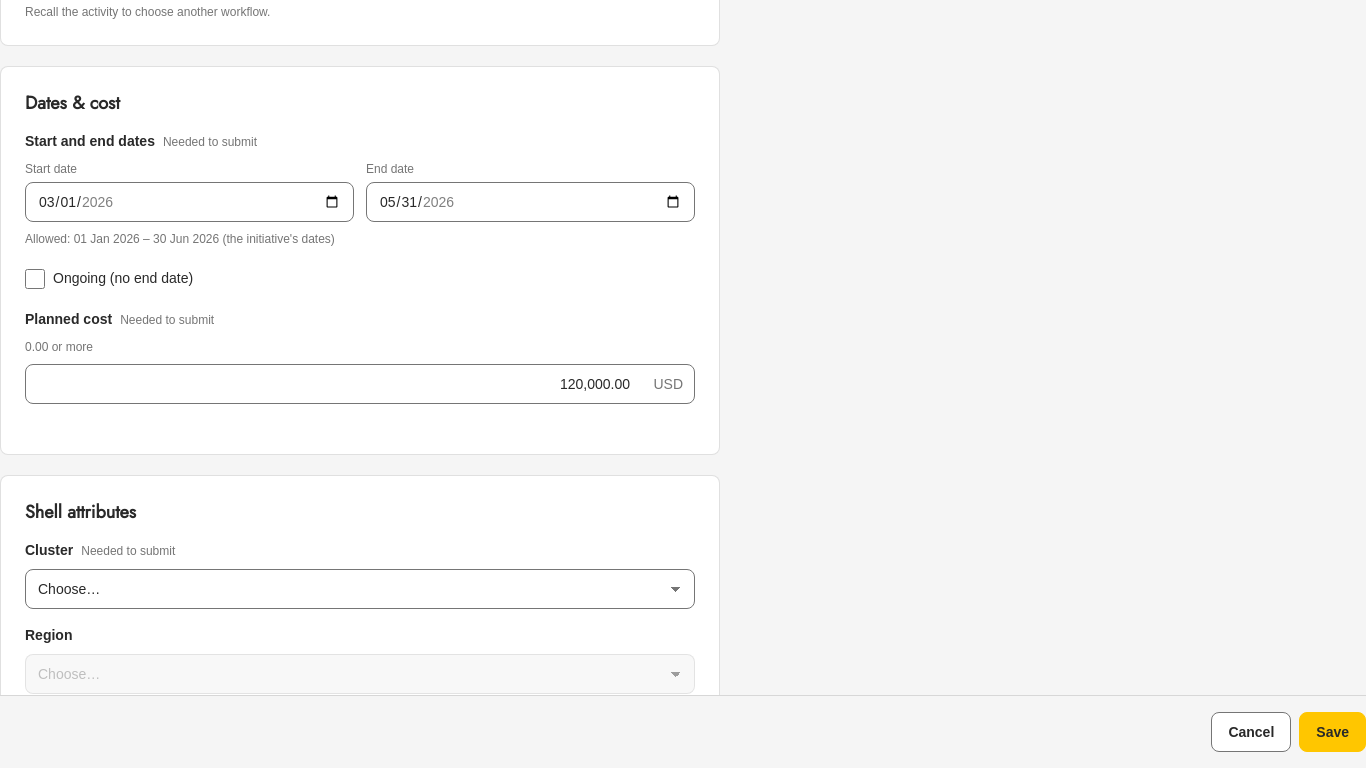
Test case: ActivityFormPage, edit (feature 006, US4) › asks before a cost change sends a submitted activity back for approval (FR-027)
(page scrolled)
Replace the text in the field labelled "Planned cost" with "150,000.00" at (360, 384), box x1=25 y1=364 x2=695 y2=404
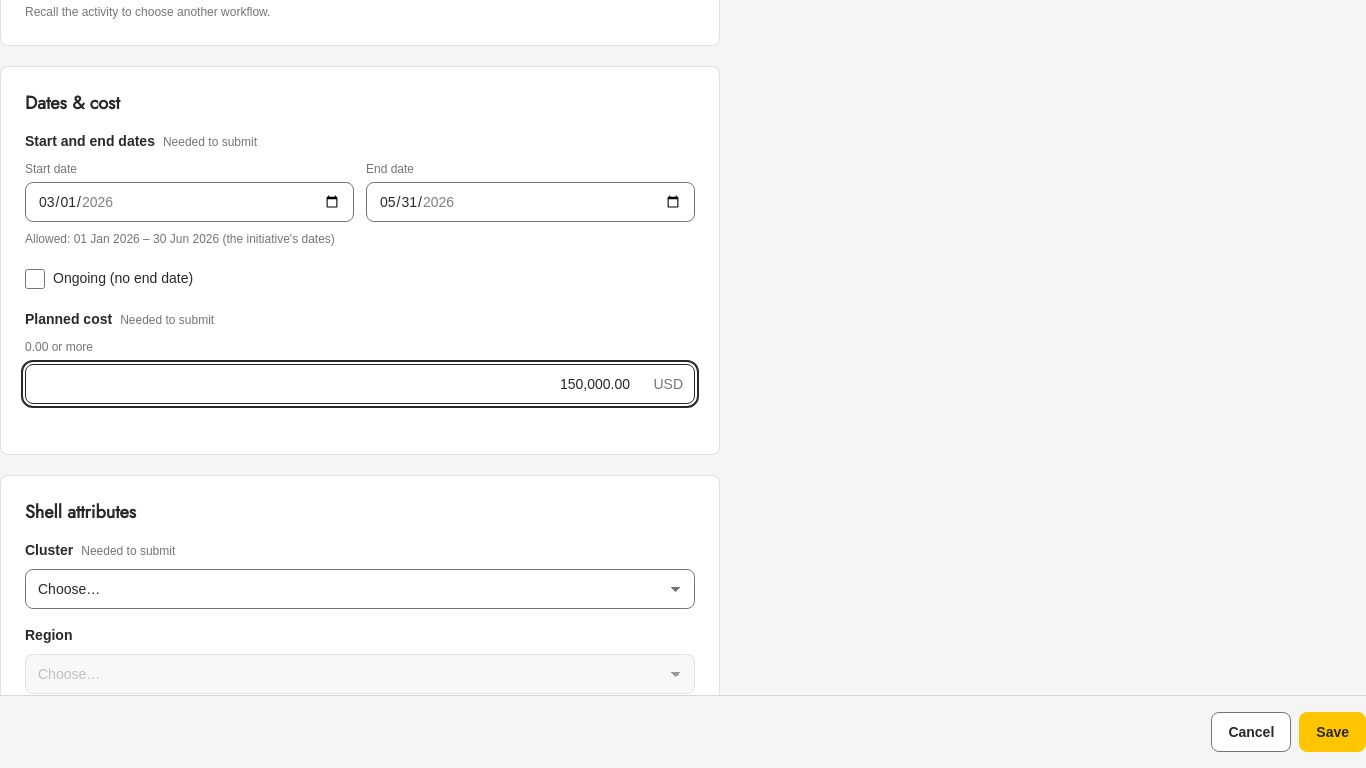
Click the button "Save".
click(1333, 732)  # box x1=1299 y1=712 x2=1365 y2=752
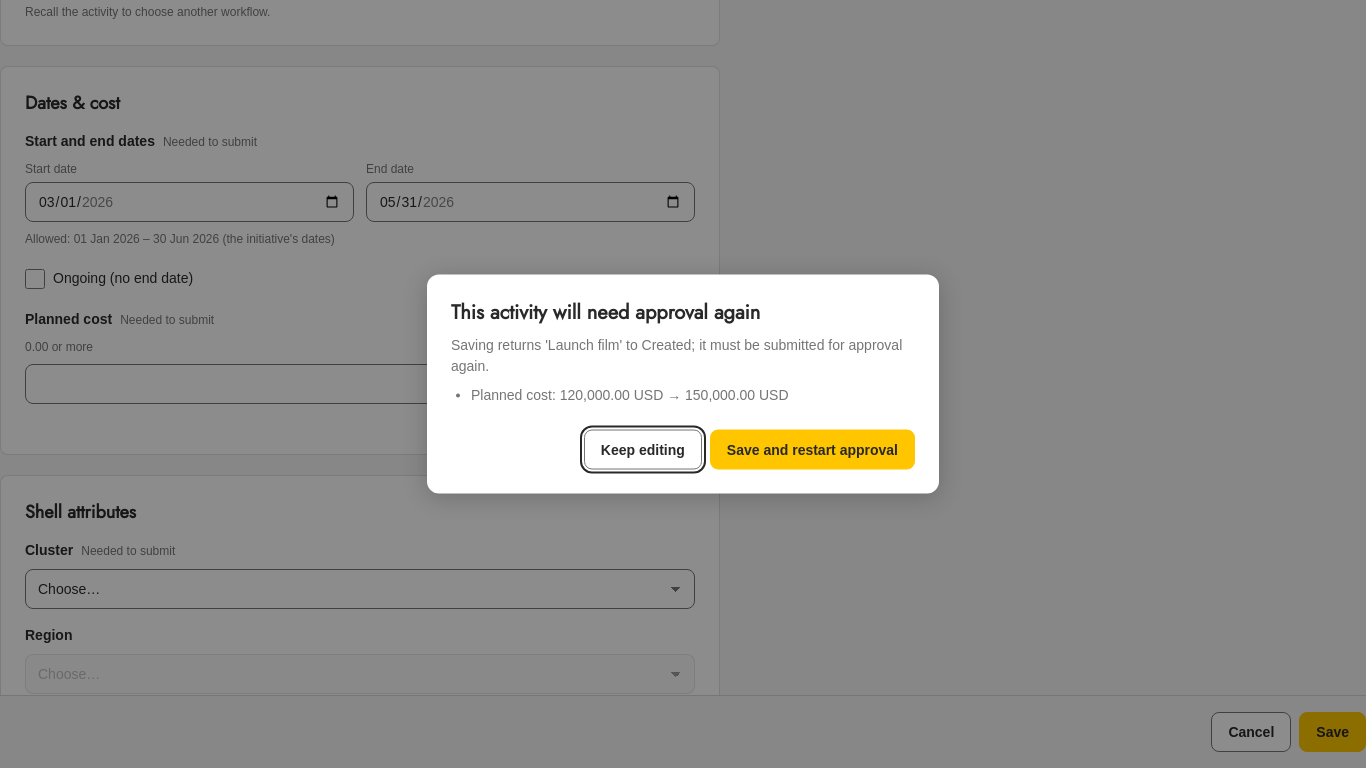
Expected: the dialog "This activity will need approval again" shows "Saving returns 'Launch film' to Created; it must be submitted for approval again.", x1=427 y1=274 x2=939 y2=494
Expected: the dialog "This activity will need approval again" shows "Planned cost: 120,000.00 USD → 150,000.00 USD", x1=427 y1=274 x2=939 y2=494
Click the button "Keep editing".
click(643, 450)  # box x1=584 y1=430 x2=702 y2=470
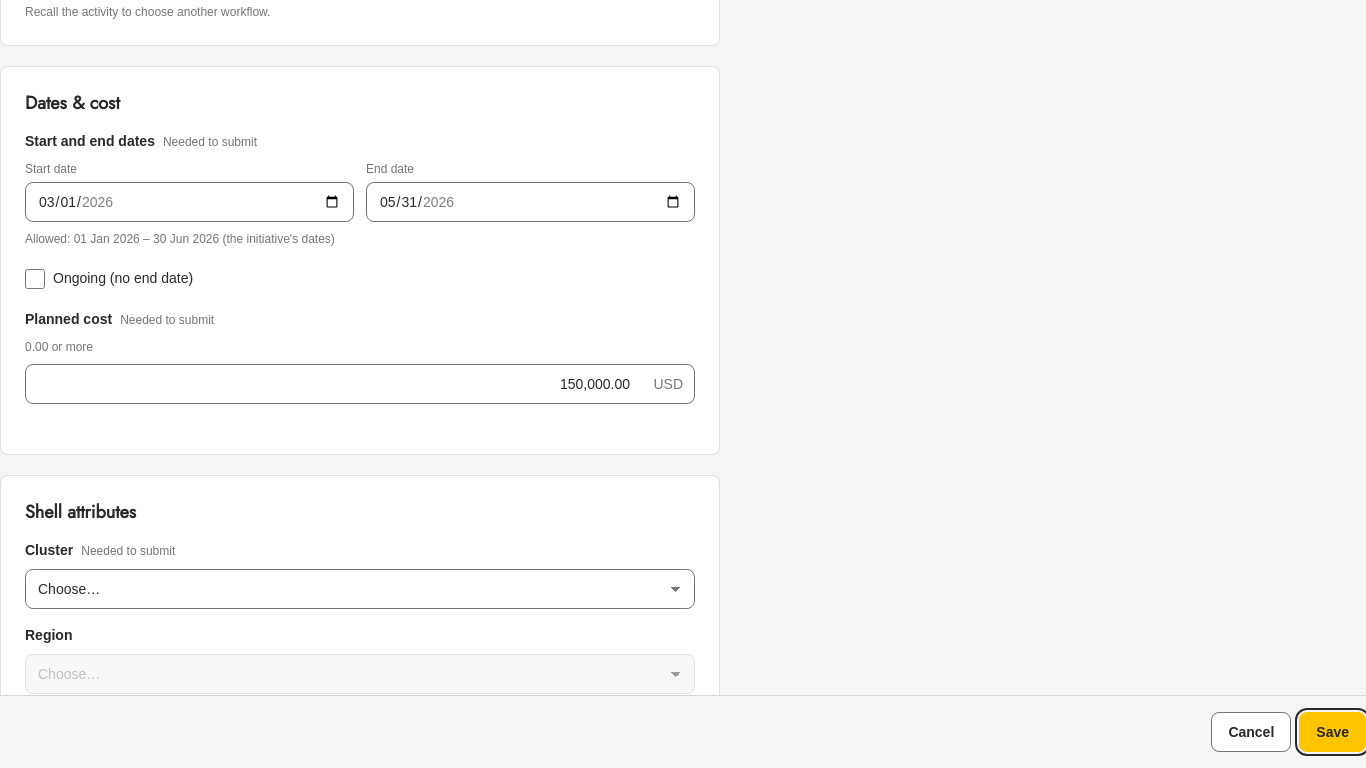
Click the button "Save".
click(1333, 732)  # box x1=1299 y1=712 x2=1365 y2=752
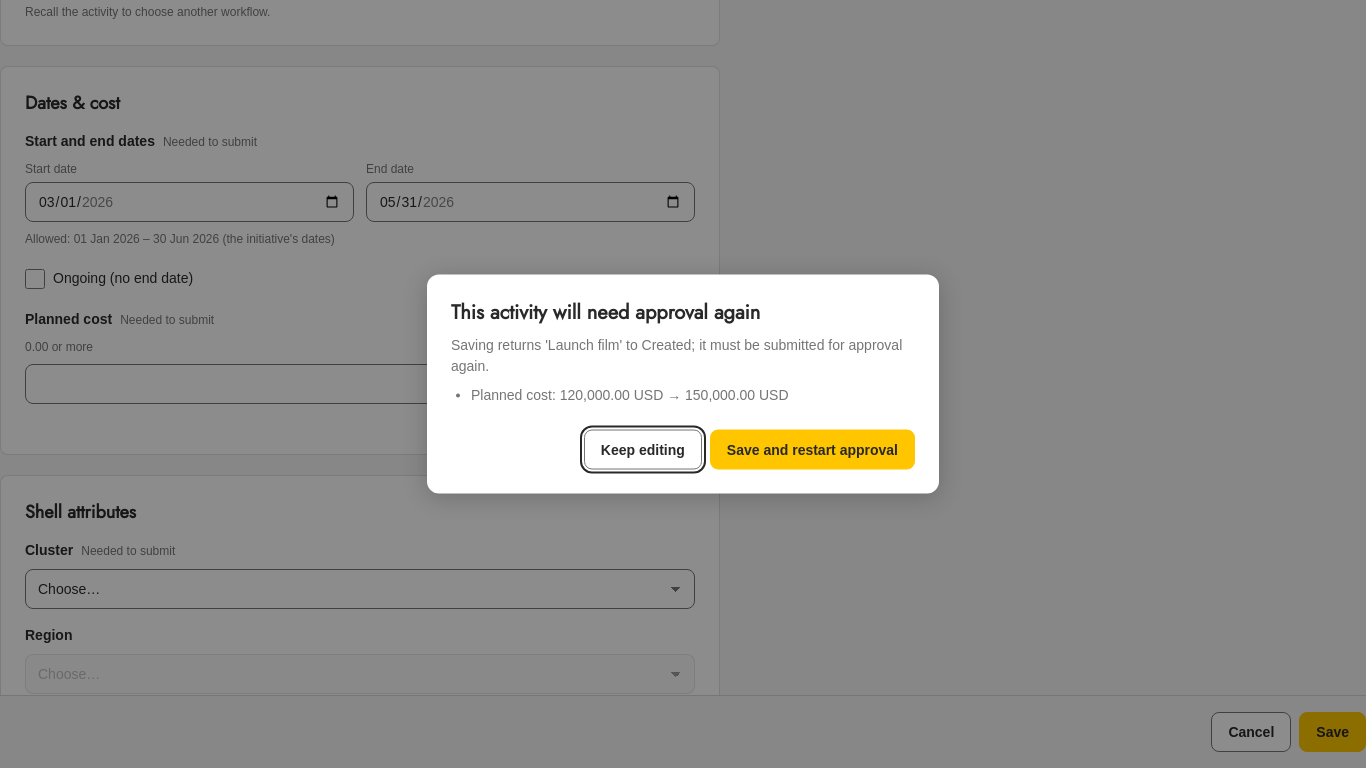
Click the button "Save and restart approval".
click(812, 450)  # box x1=710 y1=430 x2=915 y2=470
(page scrolled)
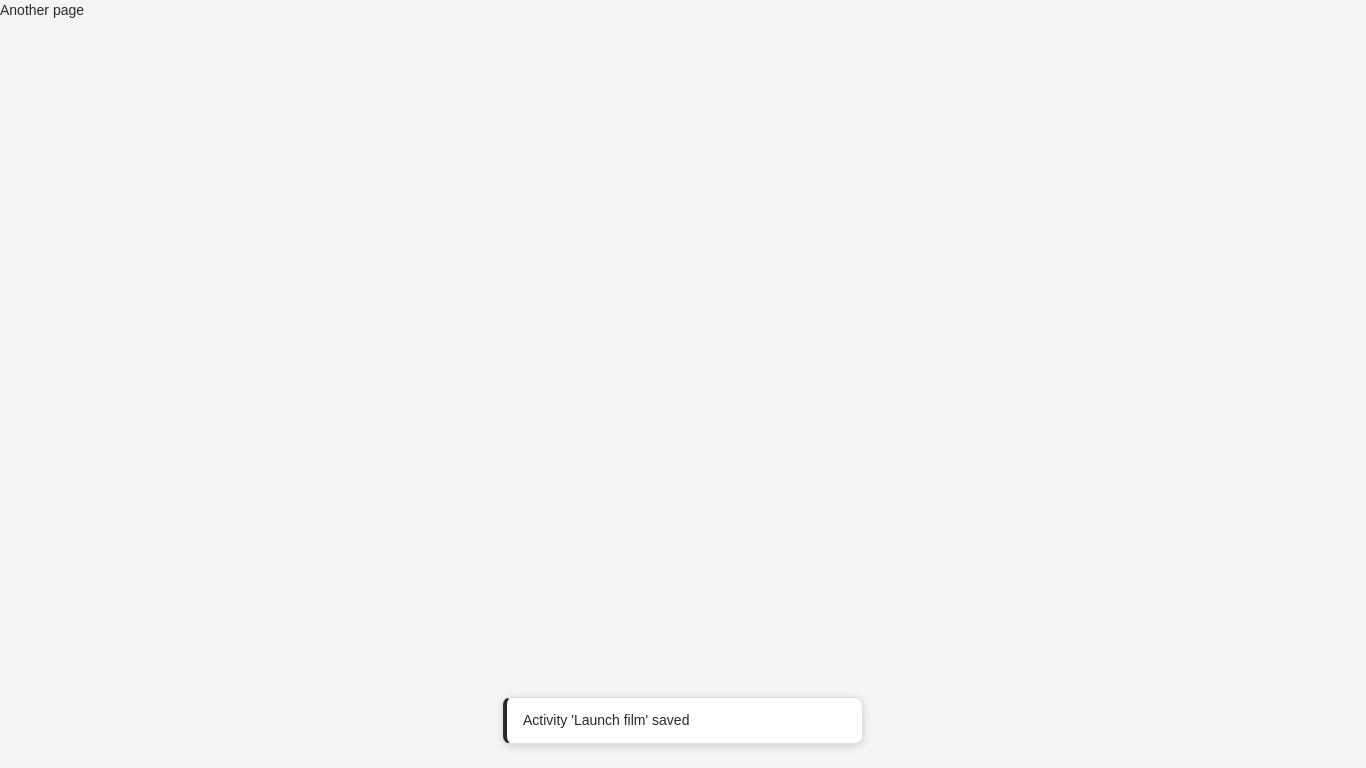
Expected: the text "Activity 'Launch film' saved" is shown, x1=523 y1=712 x2=689 y2=728
